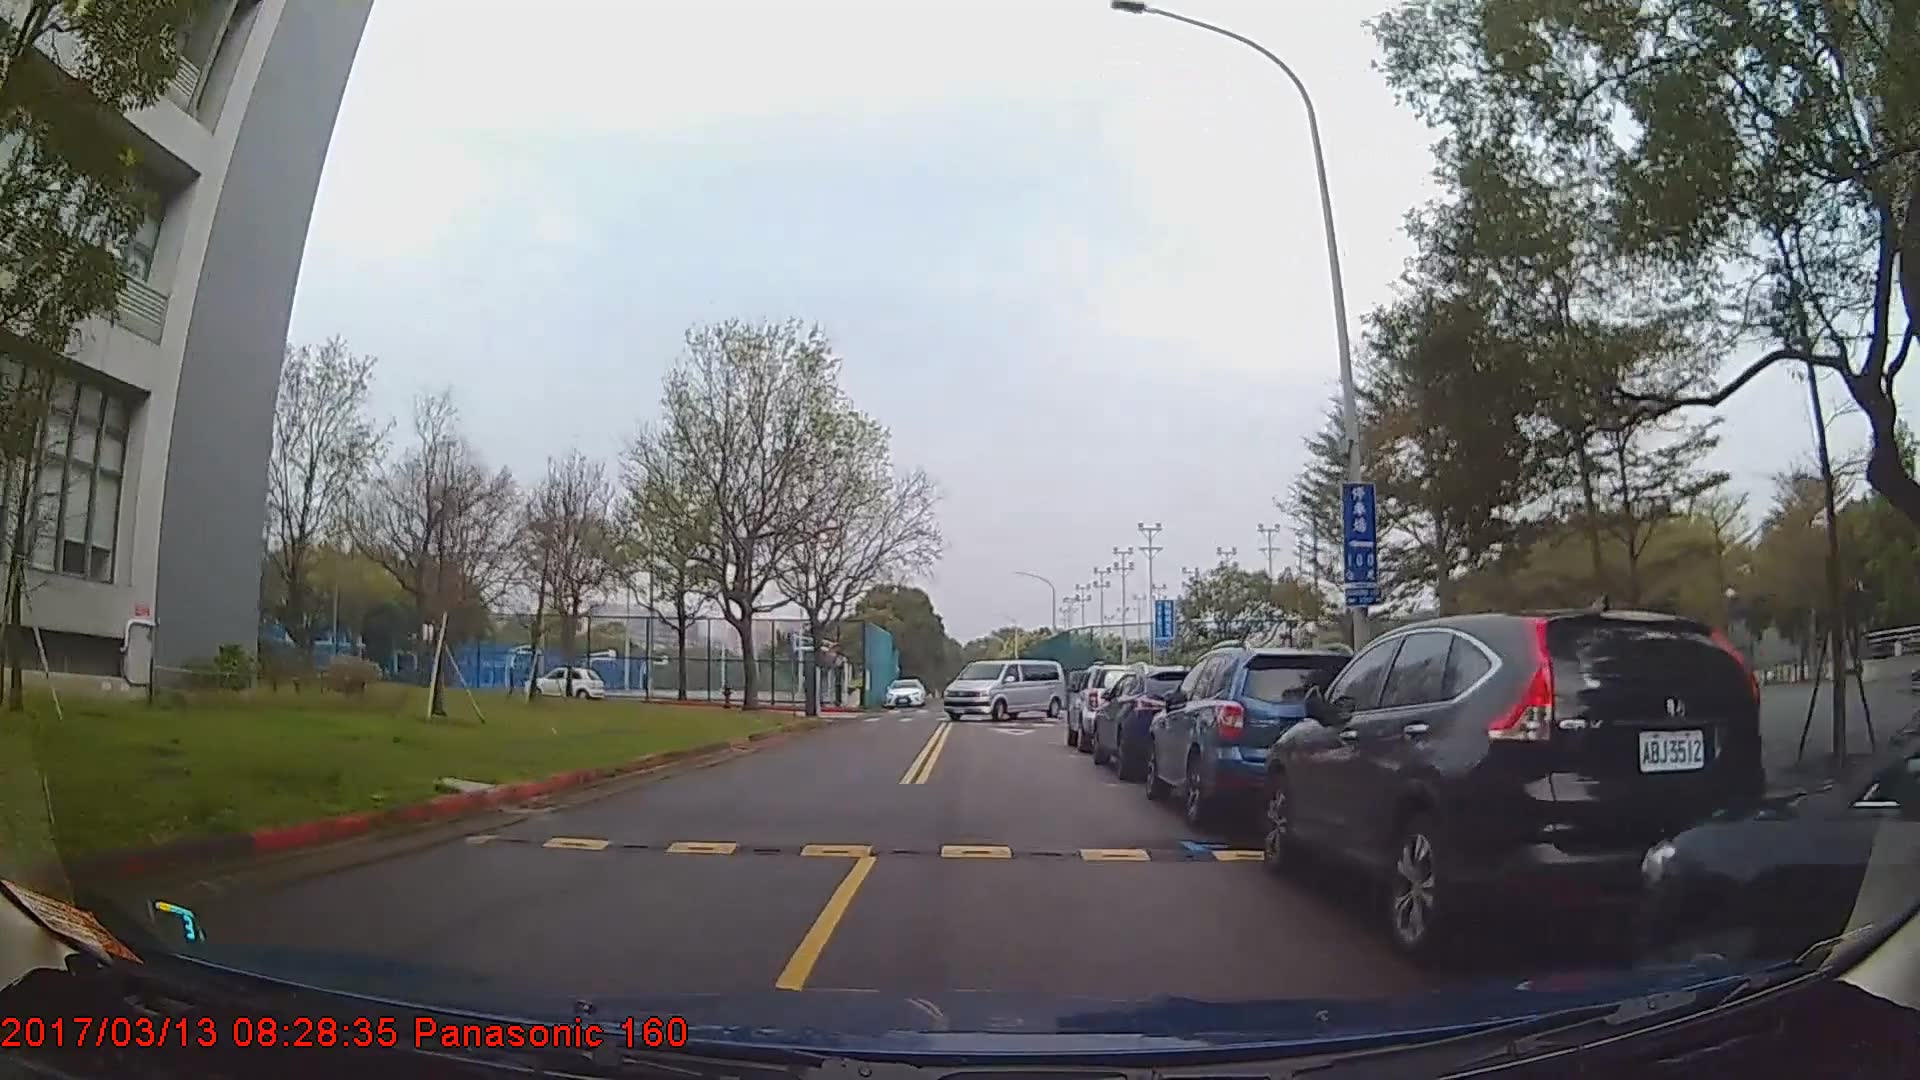vehicle: (1261, 607, 1770, 963), (1636, 724, 1920, 1021), (1142, 647, 1371, 829), (1091, 665, 1222, 779), (942, 658, 1067, 724), (526, 665, 603, 702), (882, 676, 926, 707)
